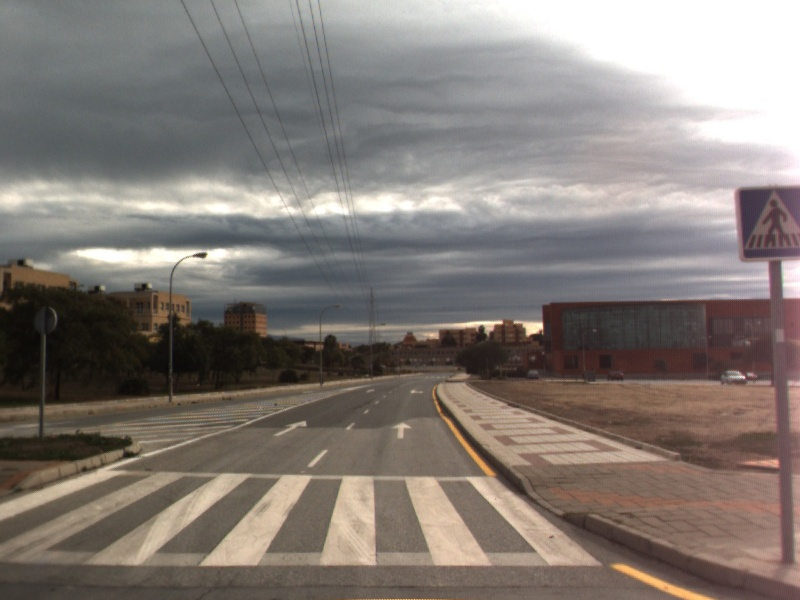STRAIGHT: (271, 419, 309, 438), (389, 420, 414, 441)
